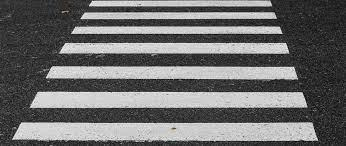crosswalk: (11, 0, 319, 142)
